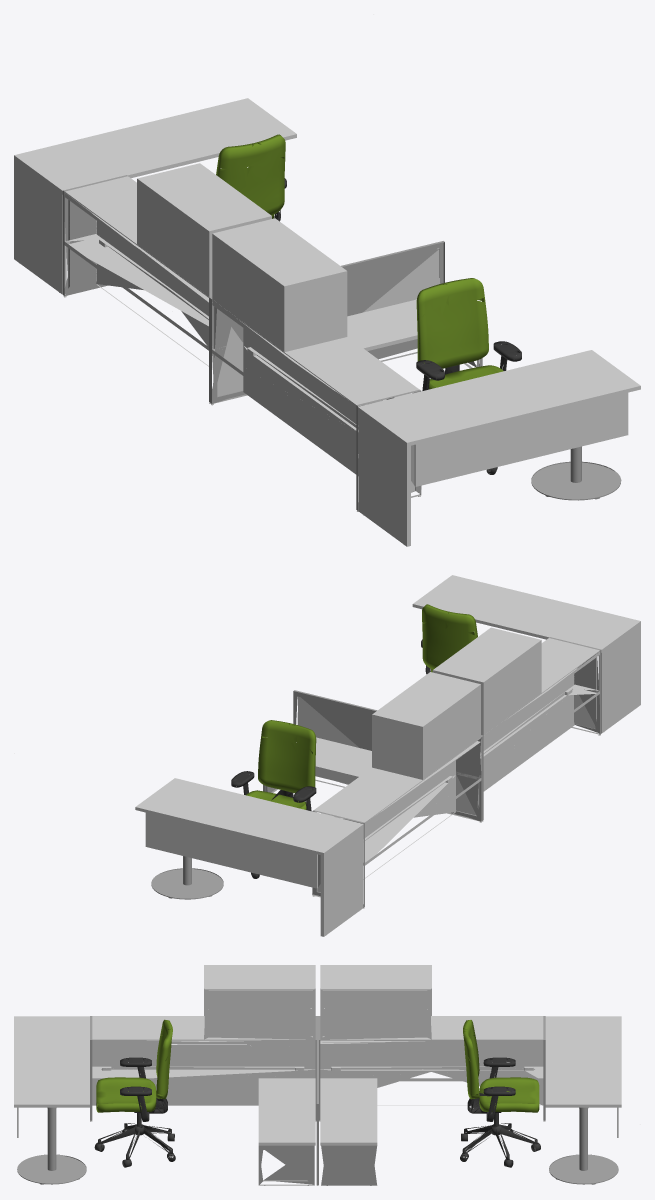
File: Nursestation.fbx
3 renders of one model, top to bottom at view 1: azimuth 30°, elevation 25°; view 2: azimuth 150°, elevation 25°; view 3: azimuth 270°, elevation 25°, orthographic. The views are drawn at different scales.
Visible parts, largest first — view 1: Layer0; view 2: Layer0; view 3: Layer0.
Boxes of the visible parts, box(x1,y1,x2,y2) form: Layer0: box(14, 14, 640, 546); Layer0: box(14, 575, 640, 936); Layer0: box(14, 965, 640, 1185).
Size of the model in its own units: 2669 by 5031 by 1177.
Materials: 6 (1 with a texture image).
